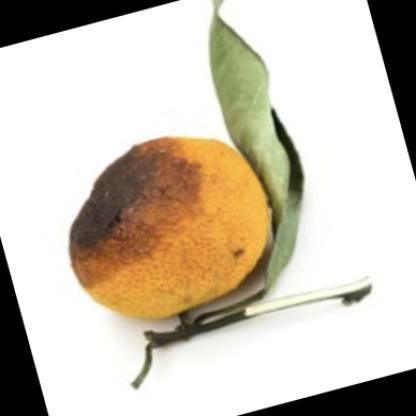rotten: (71, 139, 272, 321)
